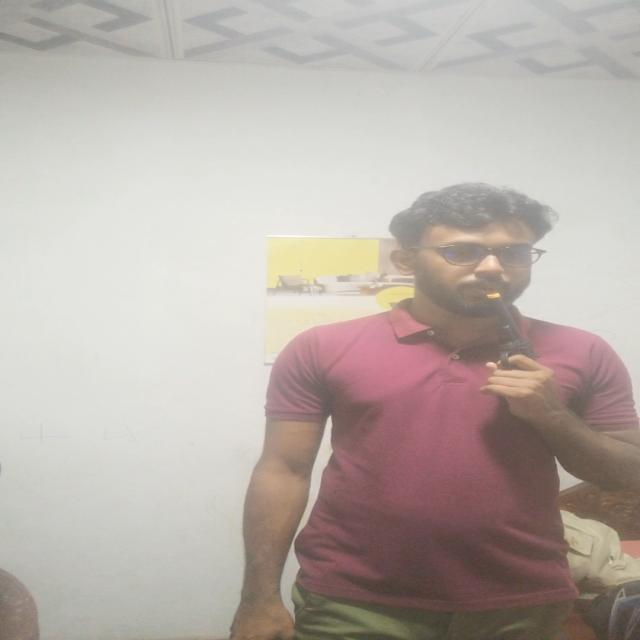Gun_Holder: (465, 284, 550, 417)
Person: (223, 183, 640, 639)
